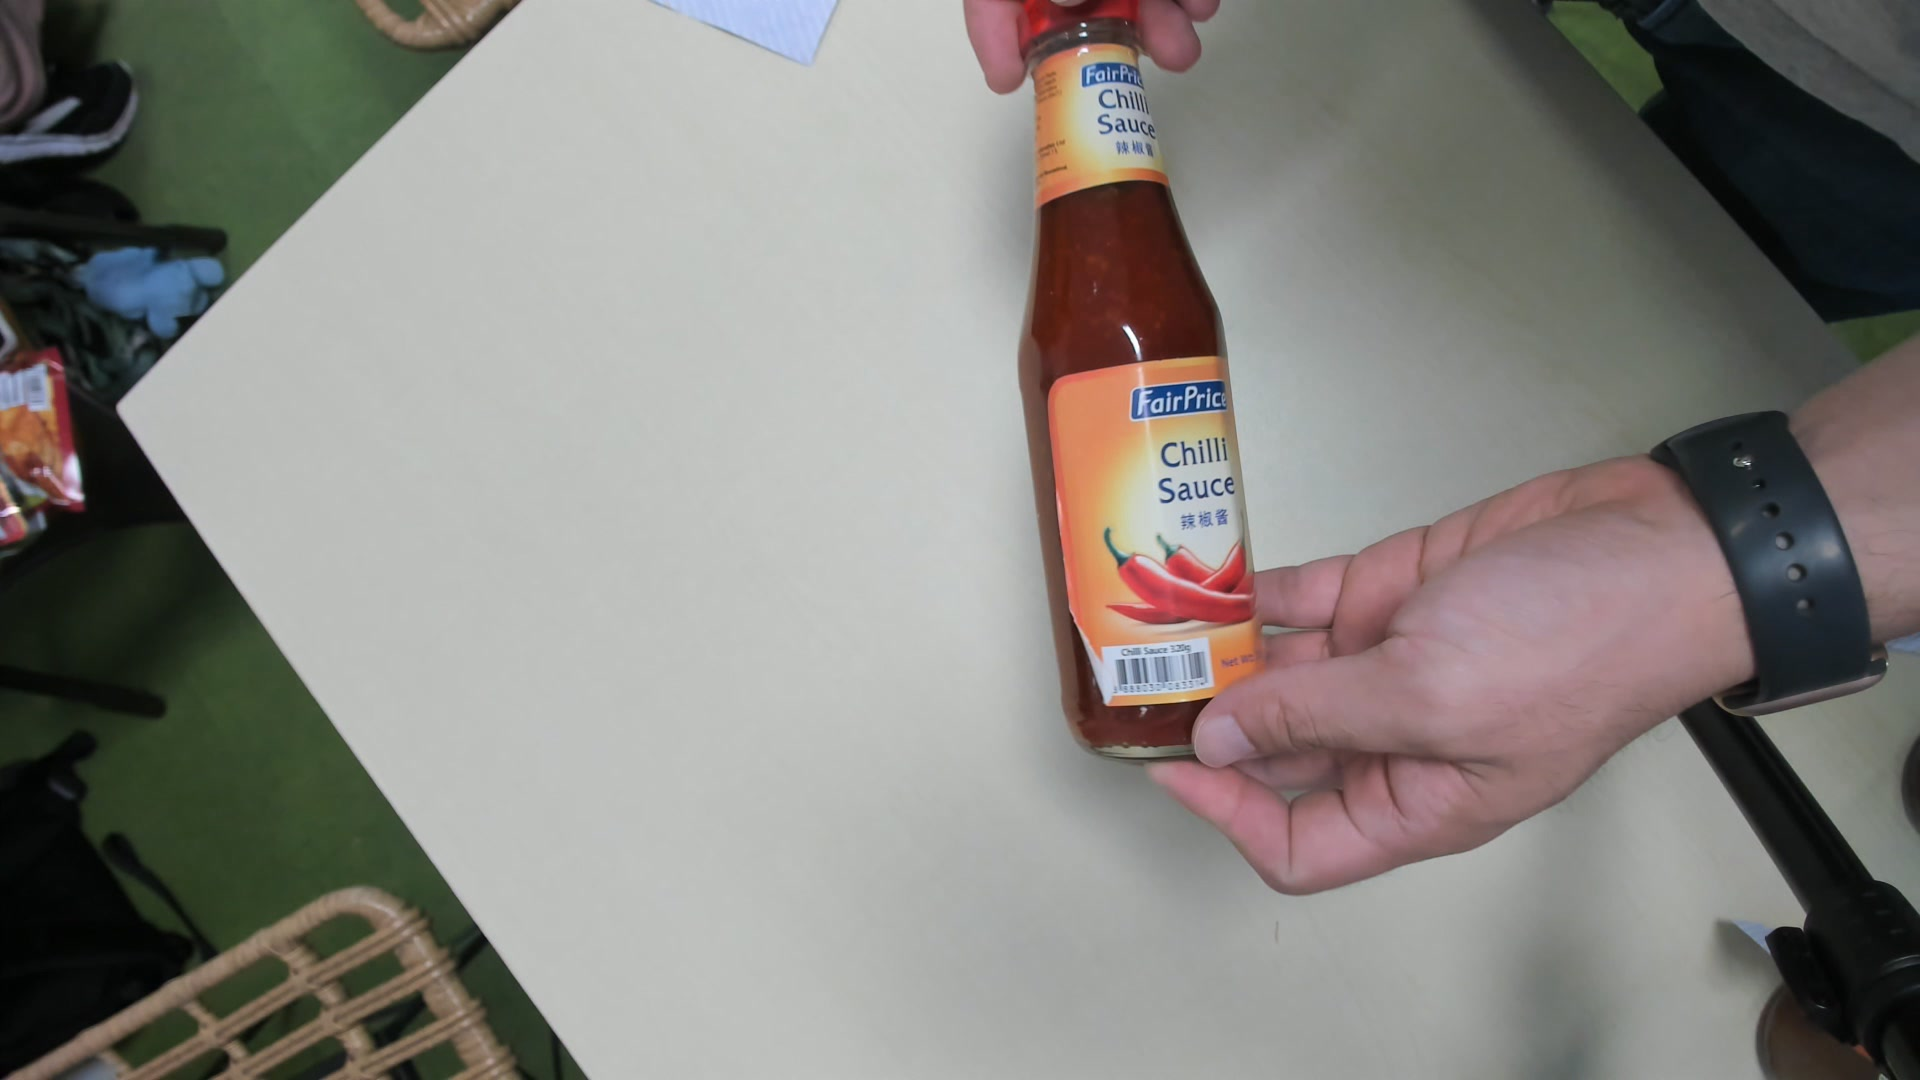KetchupChillSauce_300-399g_Halal_NonHealthy: (1005, 5, 1280, 765)
